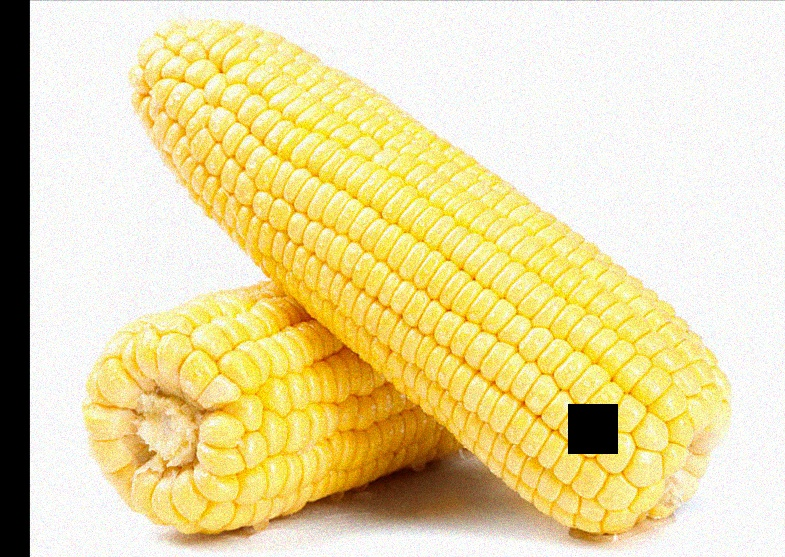corn: (133, 16, 710, 506), (81, 252, 575, 534)
